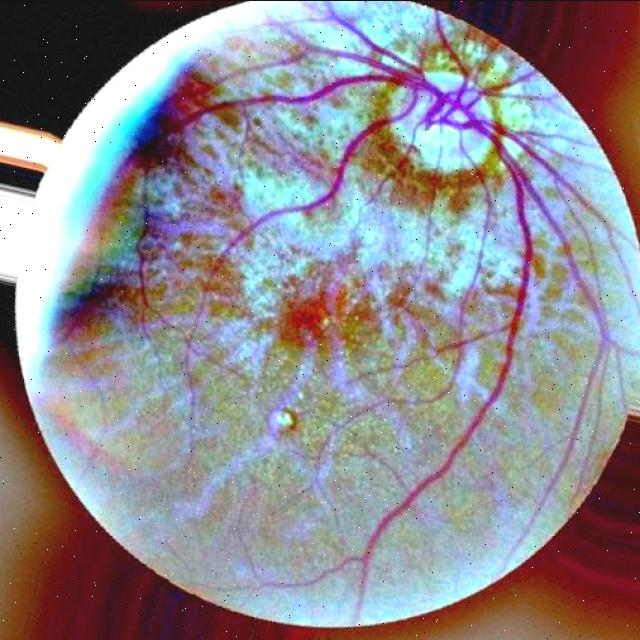Nerves: (182, 0, 611, 591)
Optic Disk: (386, 67, 493, 172)
